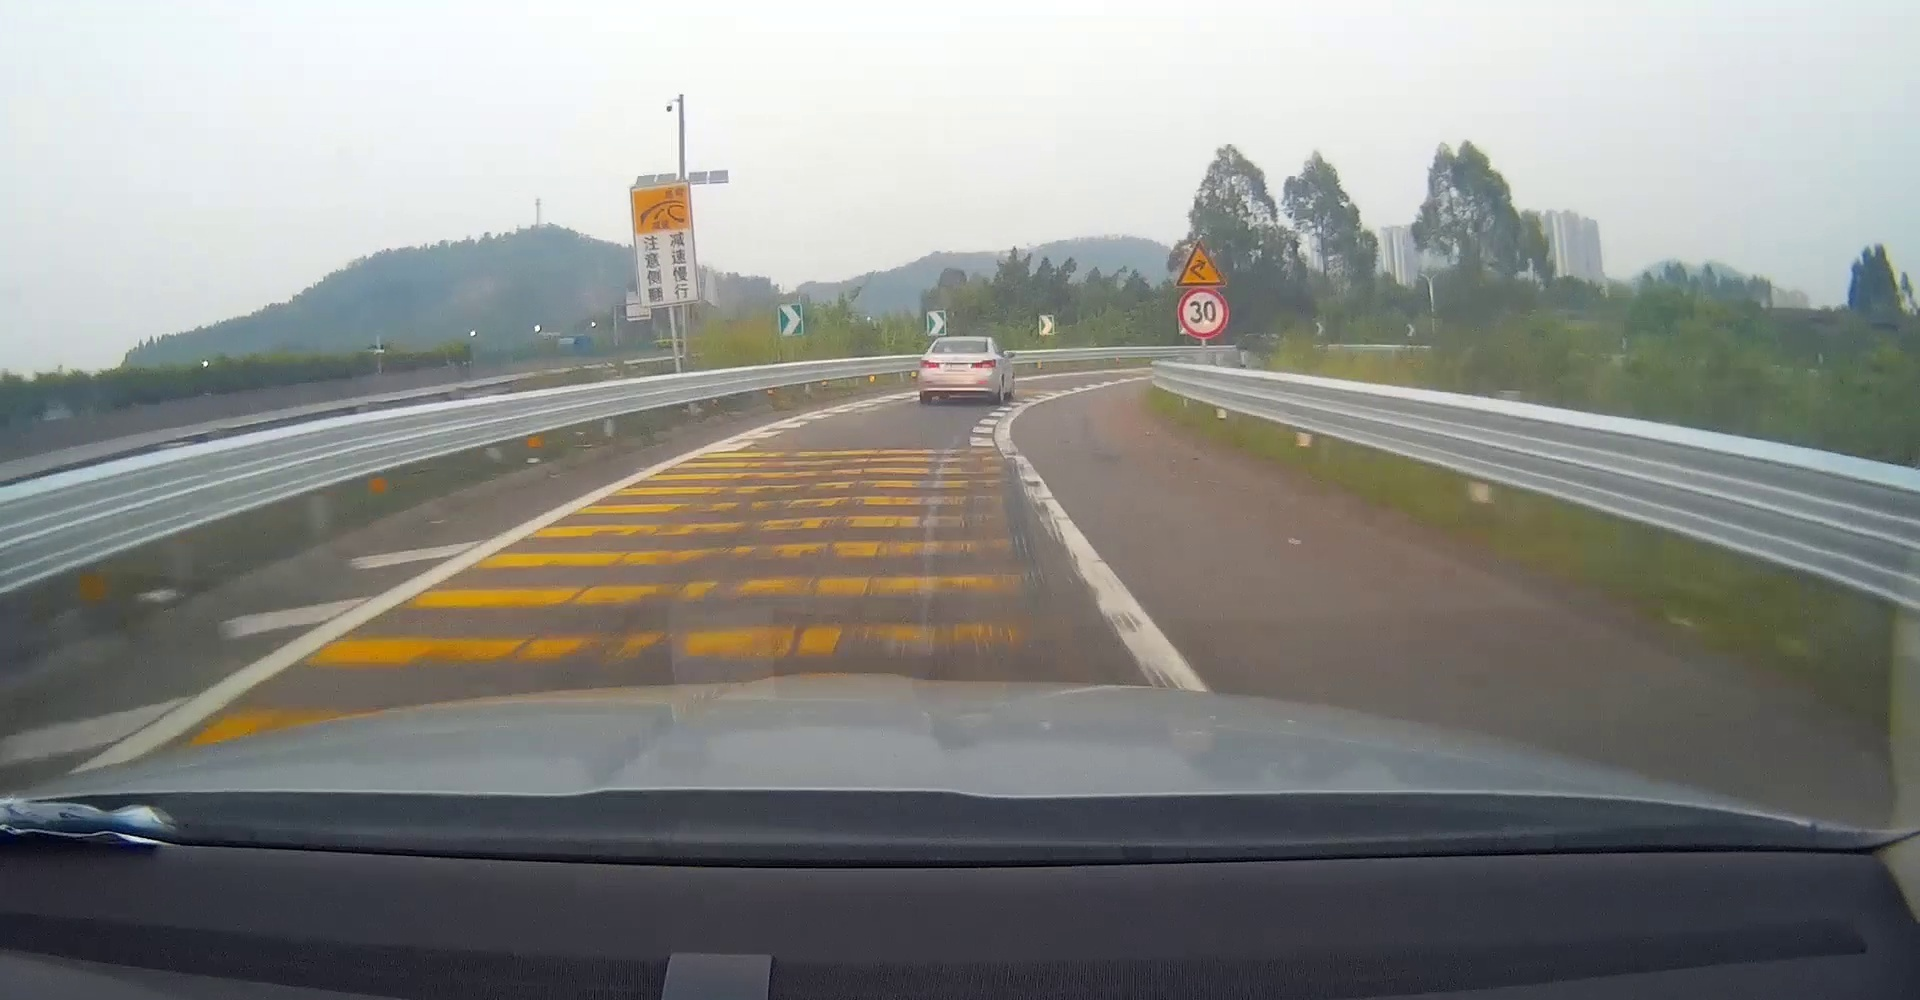L_light: (919, 359, 938, 368)
R_light: (970, 359, 996, 368)
T_light: (957, 339, 969, 343)
day-no: (919, 336, 997, 404)
